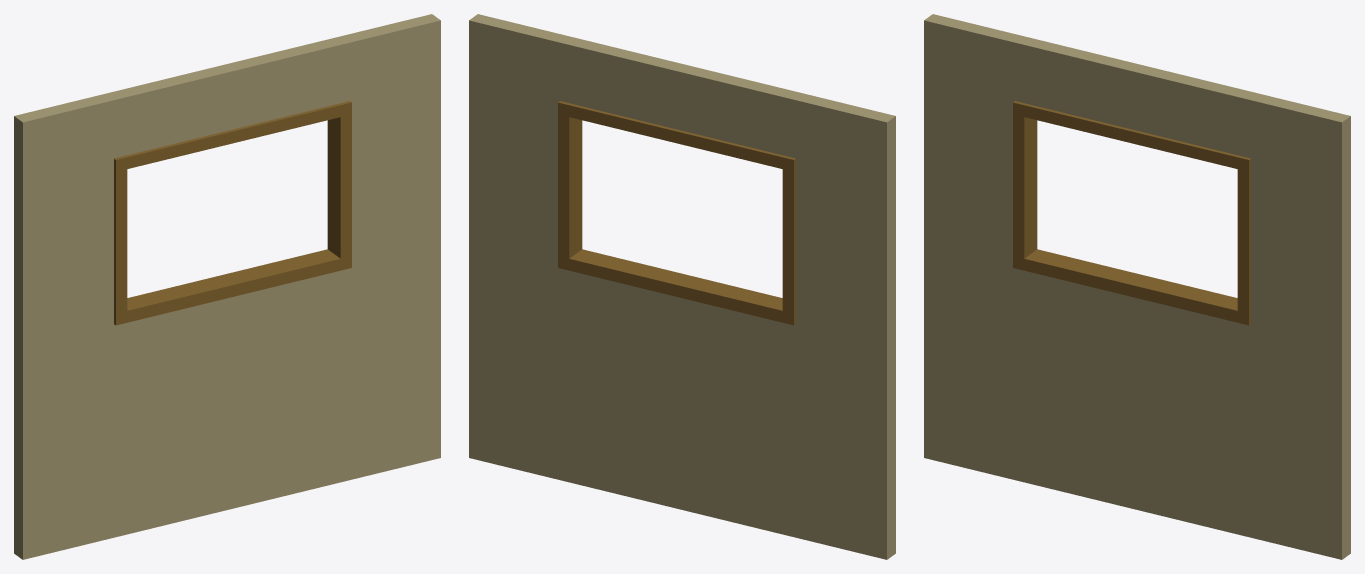
The model's file is Retro Window Wall.fbx.
3 renders of one model, left to right at view 1: azimuth 30°, elevation 25°; view 2: azimuth 150°, elevation 25°; view 3: azimuth 330°, elevation 25°, orthographic.
Parts seen in each view (by area): view 1: retro_wall_window; view 2: retro_wall_window; view 3: retro_wall_window.
Part boxes in pixels (box(x1,y1,x2,y2)): retro_wall_window: box(14, 14, 440, 559); retro_wall_window: box(469, 14, 895, 559); retro_wall_window: box(924, 14, 1350, 559).
Size of the model in its own units: 300 by 300 by 16.19.
